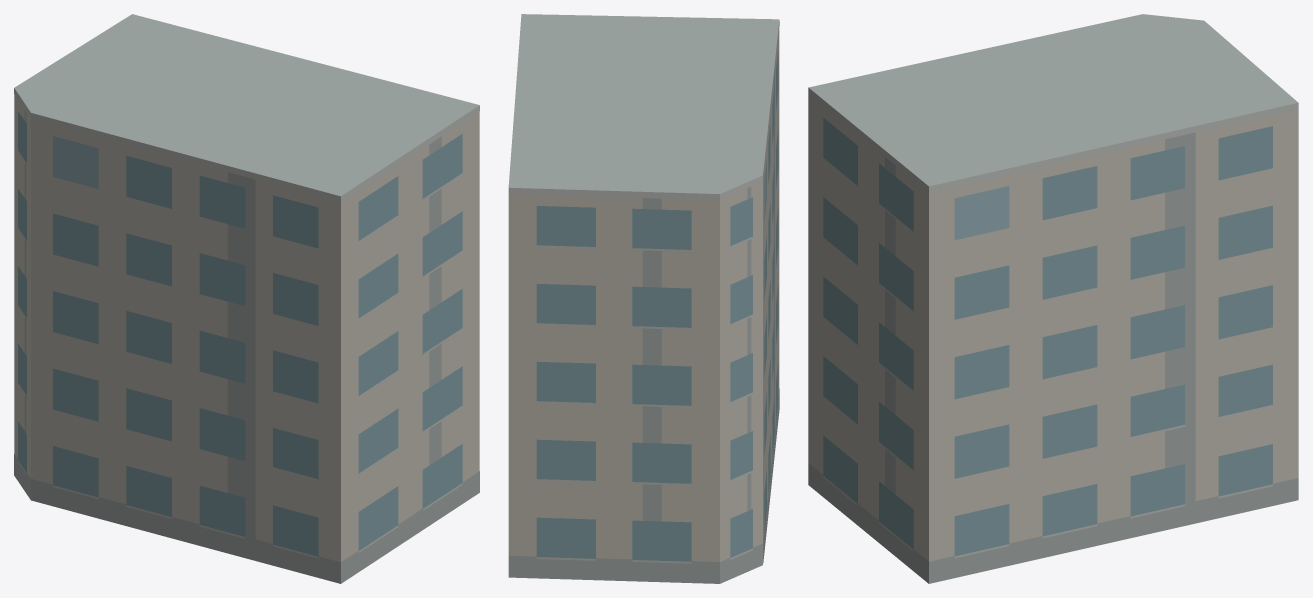
File: survey-upis-32768308.glb
3 views of the same model, side by side, from view 1: azimuth 30°, elevation 25°; view 2: azimuth 150°, elevation 25°; view 3: azimuth 270°, elevation 25° (orthographic). The views are drawn at different scales.
Parts seen in each view (by area): view 1: survey-upis-32768308.tmp; view 2: survey-upis-32768308.tmp; view 3: survey-upis-32768308.tmp.
Part boxes in pixels (left/top/right/bottom): survey-upis-32768308.tmp: left=14, top=14, right=479, bottom=583; survey-upis-32768308.tmp: left=508, top=14, right=779, bottom=583; survey-upis-32768308.tmp: left=808, top=14, right=1298, bottom=583.
Size of the model in its own units: 14.2 by 15.25 by 17.05.
